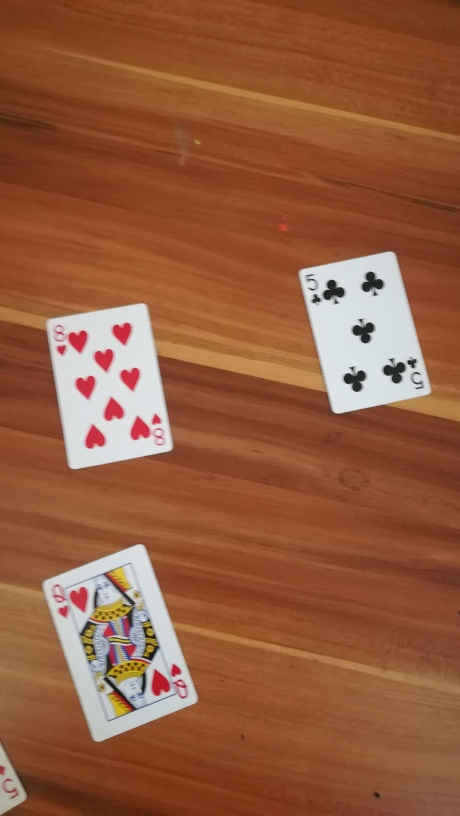hx 8: (33, 302, 177, 471)
hx q: (32, 537, 209, 749)
mh 5: (295, 250, 432, 413)
